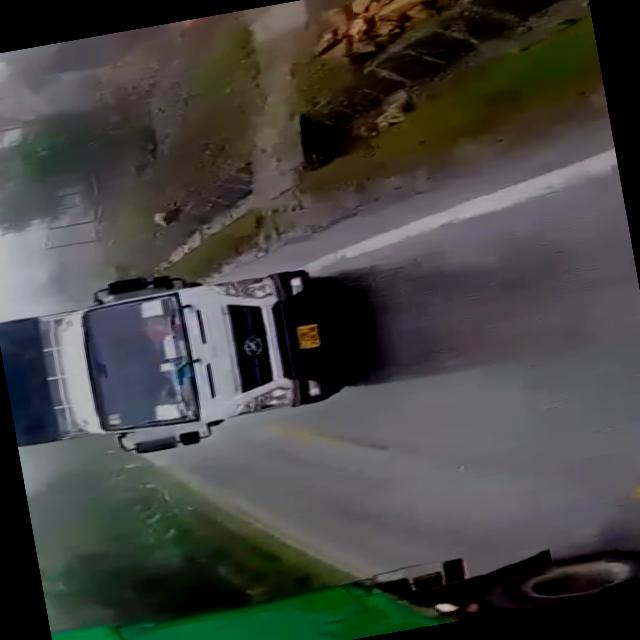Truck: (0, 229, 364, 481)
